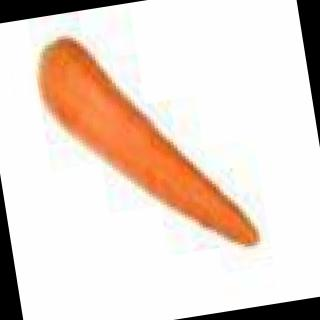Wortel: (1, 1, 299, 297)
